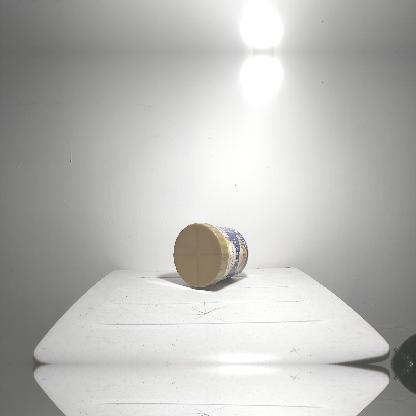Lady-s-Choice: (172, 222, 250, 288)
